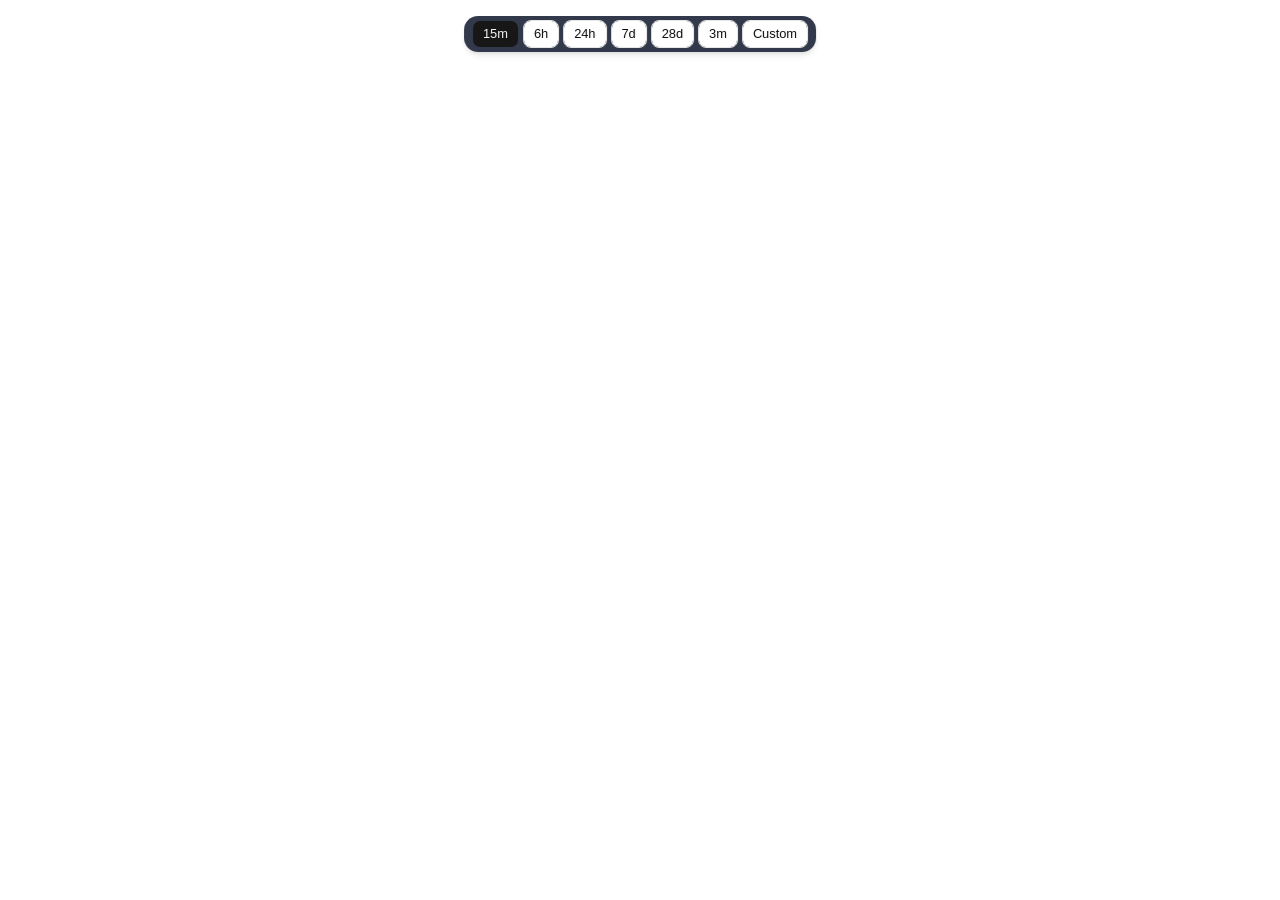
Scenario: TimeRangeControl › clicking Custom opens the date range picker popover
This screenshot has width=1280, height=900.
Click the button with test id "custom-range-trigger": (775, 34) [742,20,808,48]
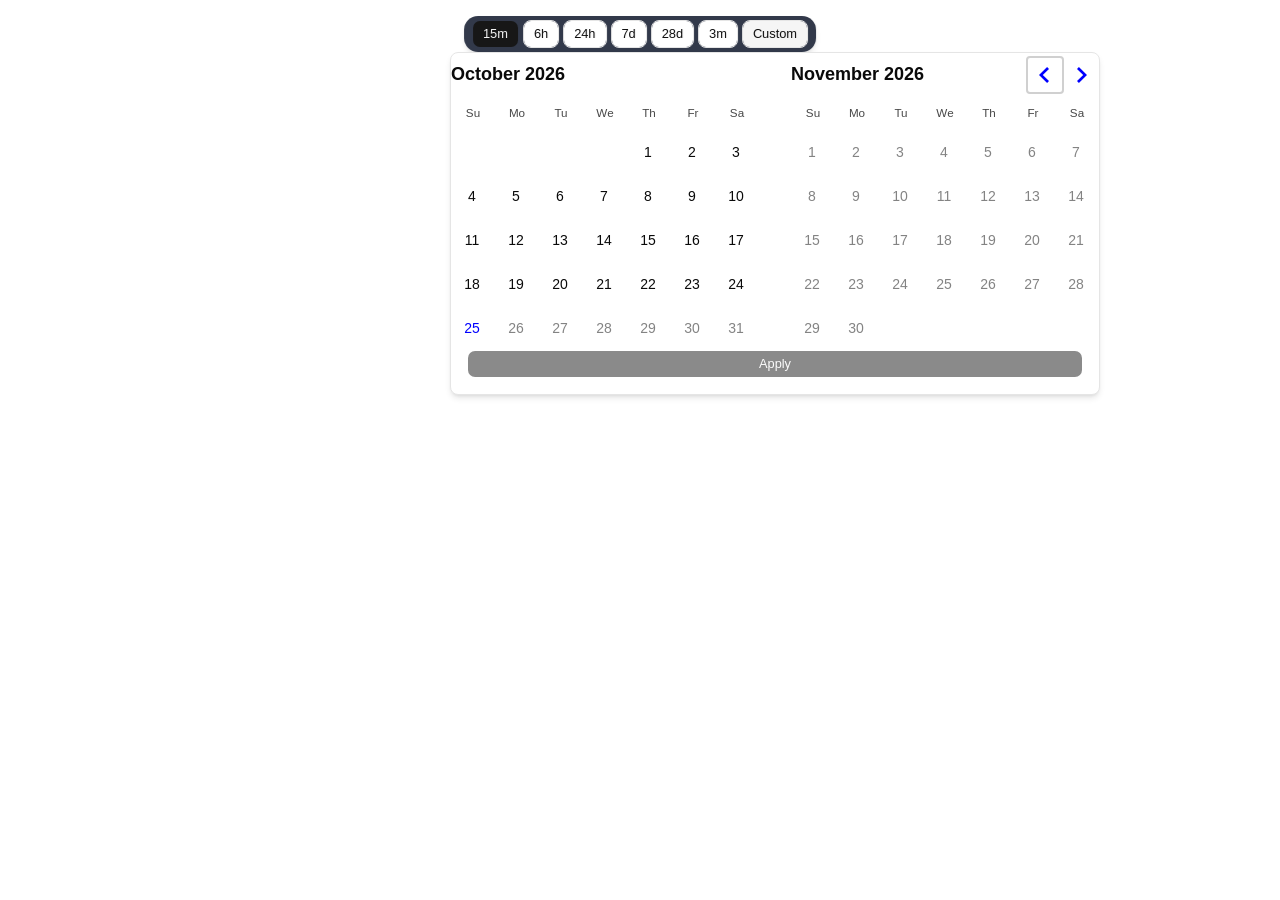
Check: the dialog with test id "custom-range-popover" is shown, box [450,52,1100,395]
